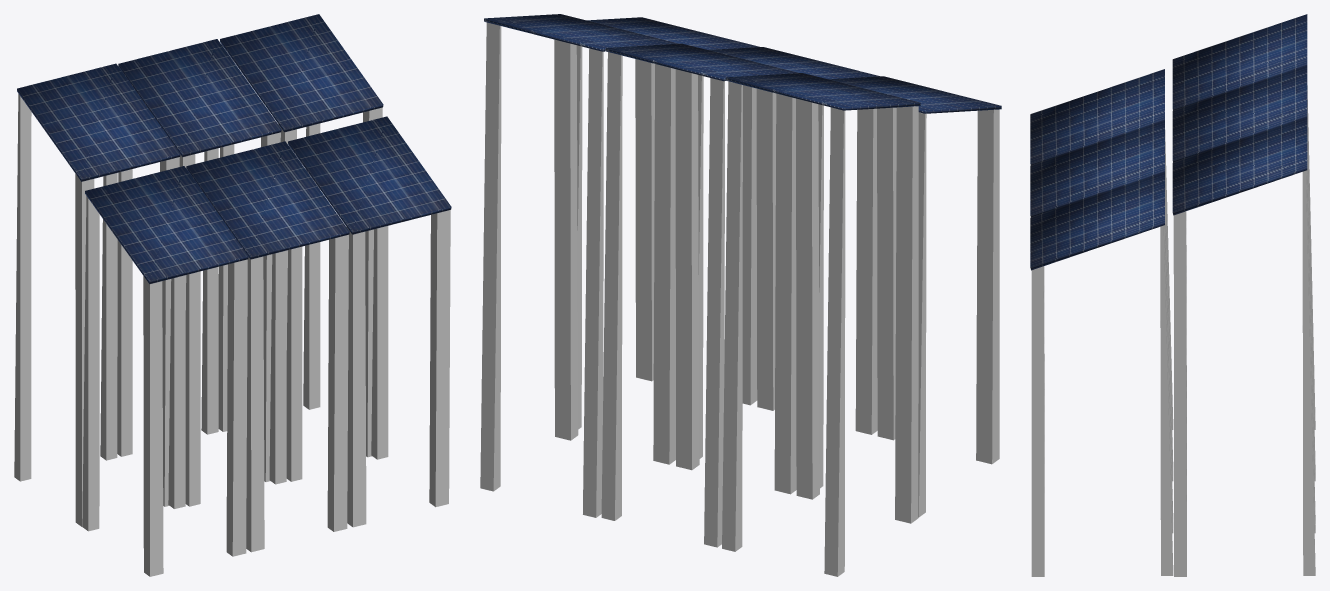
The model's file is six  panel model LONG legs.fbx.
3 renders of one model, left to right at view 1: azimuth 30°, elevation 25°; view 2: azimuth 150°, elevation 25°; view 3: azimuth 270°, elevation 25°, orthographic. The views are drawn at different scales.
Parts seen in each view (by area): view 1: panel, panel3, panel4, panel6, panel2, panel5, Cube.005, Cube.027, Cube.017, Cube.022, Cube.018, Cube.028 (+16 smaller); view 2: Cube.007, Cube.012, Cube.003, Cube.006, Cube.013, Cube.004, Cube.010, Cube.001, Cube.005, Cube.015, Cube.011, Cube.018 (+16 smaller); view 3: panel3, panel6, panel2, panel, panel5, panel4, Cube.012, Cube.027, Cube.015, Cube.030, Cube.011, Cube.005 (+4 smaller).
Boxes of the visible parts, x1,y1,x2,y2 form: panel: (17,63,180,181); panel3: (220,14,383,132); panel4: (85,166,248,284); panel6: (288,116,451,234); panel2: (118,39,281,157); panel5: (186,141,349,259); Cube.005: (14,93,31,481); Cube.027: (429,210,450,507); Cube.017: (226,259,247,556); Cube.022: (327,234,348,531); Cube.018: (143,276,163,576); Cube.028: (346,226,366,527); Cube.007: (895,106,918,523); Cube.012: (554,39,578,440); Cube.003: (675,69,699,470); Cube.006: (796,98,819,499); Cube.013: (653,64,675,464); Cube.004: (774,93,796,494); Cube.010: (601,52,622,520); Cube.001: (722,81,742,551); Cube.005: (824,107,845,576); Cube.015: (480,22,501,491); Cube.011: (583,48,603,517); Cube.018: (976,109,999,464); panel3: (1172,117,1307,215); panel6: (1030,172,1164,270); panel2: (1172,66,1307,162); panel: (1172,14,1307,110); panel5: (1030,120,1164,217); panel4: (1030,69,1164,165); Cube.012: (1173,211,1186,576); Cube.027: (1031,266,1044,576); Cube.015: (1302,170,1315,575); Cube.030: (1160,225,1173,575); Cube.011: (1306,170,1315,533); Cube.005: (1307,85,1315,429).
Bounding box in the file's own units: 244 × 303 × 191.
